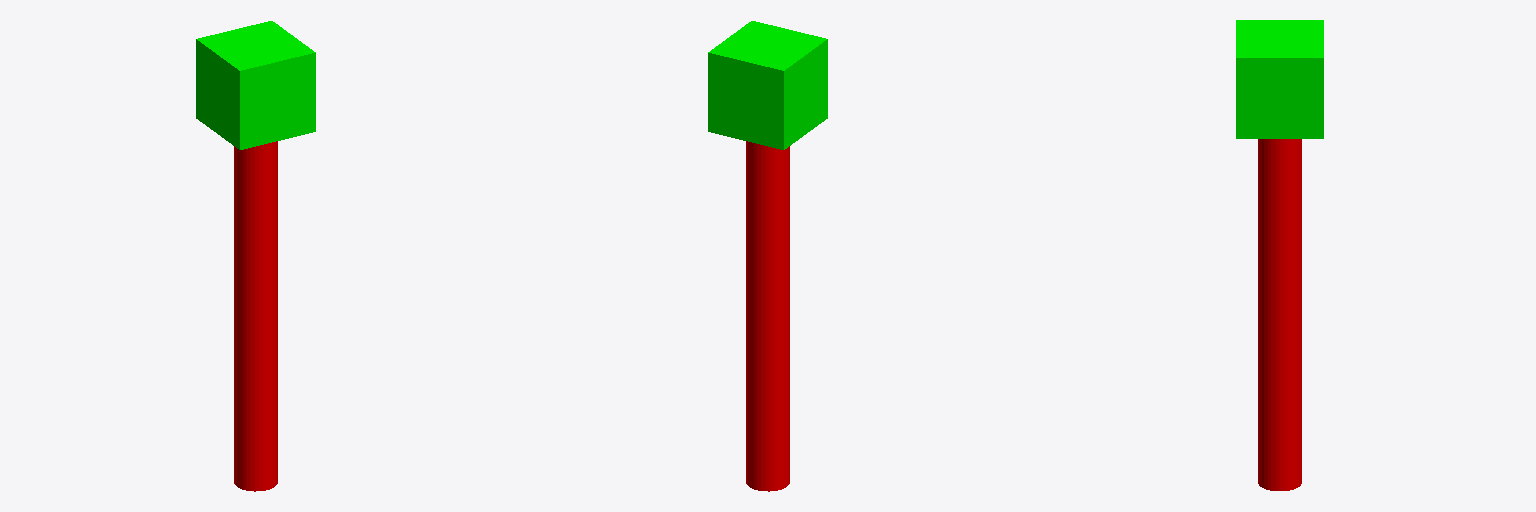
robot.urdf — torsional_spring_test:
<?xml version="1.0"?>

<robot name="torsional_spring_test">

  <link name="base">
    <inertial>
      <mass value="10" />
      <inertia ixx="1" ixy="0" ixz="0" iyy="1" iyz="0" izz="0.083" />
    </inertial>
    <visual>
      <geometry>
         <box size=".2 .2 .2" />
      </geometry>
      <material name="green">
      	<color rgba="0 1 0 1" />
      </material>
    </visual>
  </link>

  <link name="pendulum">
    <inertial>
      <origin xyz="0 0 -1" rpy="0 0 0" />
      <mass value="1" />
      <inertia ixx="0" ixy="0" ixz="0" iyy="0" iyz="0" izz="0" />
    </inertial>
    <visual>
      <origin xyz="0 0 -.5" rpy="0 0 0" />
      <geometry>
         <cylinder length="1" radius=".05" />
      </geometry>
      <material name="red">
	      <color rgba="1 0 0 1" />
      </material>
    </visual>
  </link>

  <joint name="shoulder" type="continuous">
    <parent link="base" />
    <child link="pendulum" />
    <origin xyz="0 0 0" />
    <axis xyz="0 1 0" />
    <dynamics damping="1" />
  </joint>

  <force_element name="spring">
    <torsional_spring stiffness="10" rest_angle="pi/2">
      <joint name="shoulder" />
    </torsional_spring>
  </force_element>

</robot>

--- What the picture shows (computed from the rendered views, not written in the file) ---
The picture shows the robot from 3 angles, left to right: view 1: azimuth 30°, elevation 25°; view 2: azimuth 150°, elevation 25°; view 3: azimuth 270°, elevation 25°; orthographic projection.
Model torsional_spring_test with 2 links and 1 joints (1 continuous), rooted at base, posed all joints at 0.
Visible links, largest first — view 1: pendulum, base; view 2: pendulum, base; view 3: pendulum, base.
Link boxes in pixels (left/top/right/bottom): pendulum: left=234, top=141, right=277, bottom=491; base: left=196, top=21, right=315, bottom=149; pendulum: left=746, top=141, right=789, bottom=491; base: left=708, top=21, right=827, bottom=149; pendulum: left=1258, top=139, right=1301, bottom=490; base: left=1236, top=20, right=1323, bottom=138.
Size in the robot's own frame: 0.2 by 0.2 by 1.1 metres.
Geometry: primitives only (box / cylinder / sphere), no mesh files.